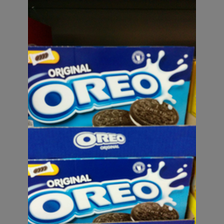chocolate: (28, 46, 194, 126), (28, 159, 195, 221)
